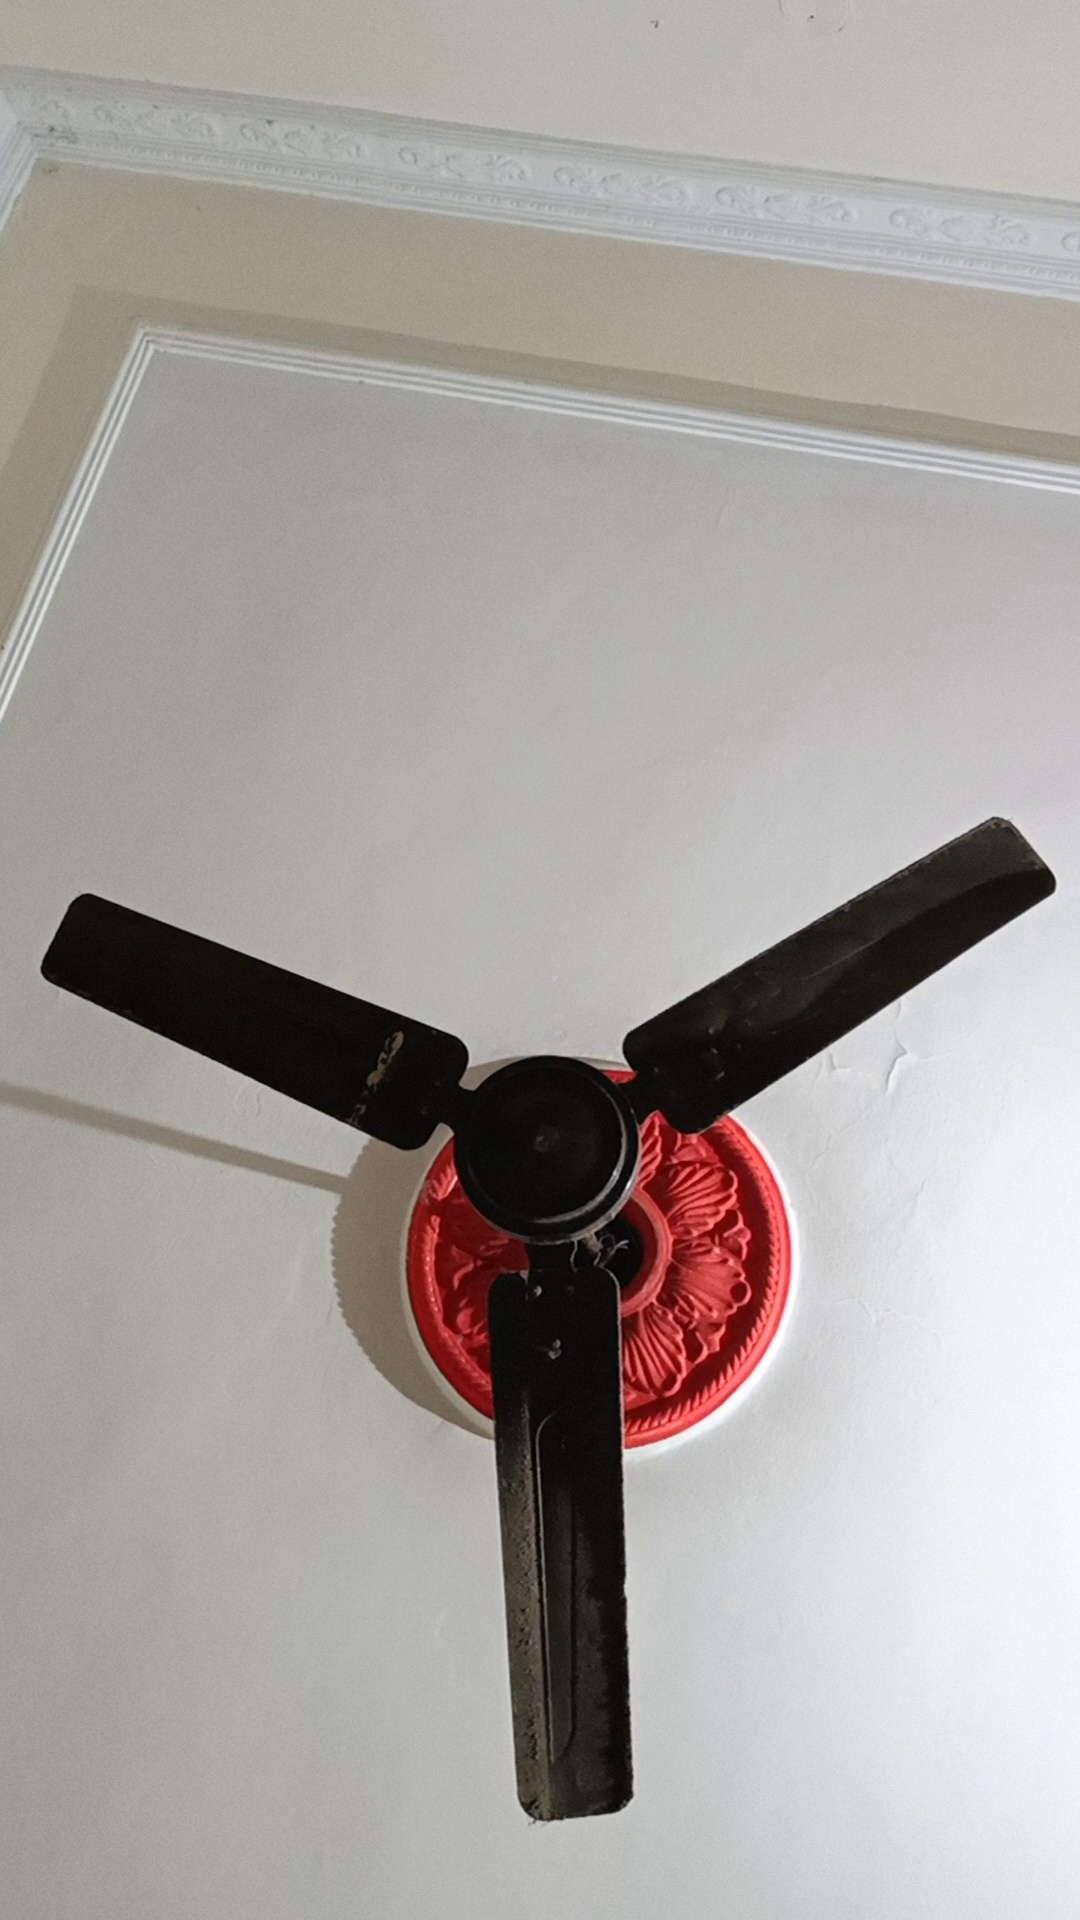fan: (330, 795, 1080, 1830)
